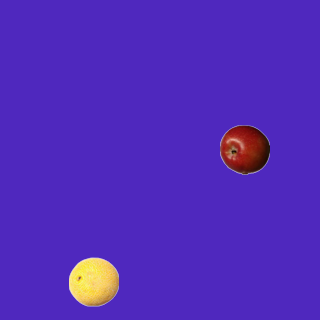Apple Braeburn: (219, 124, 269, 174)
Cantaloupe 1: (68, 256, 118, 306)
